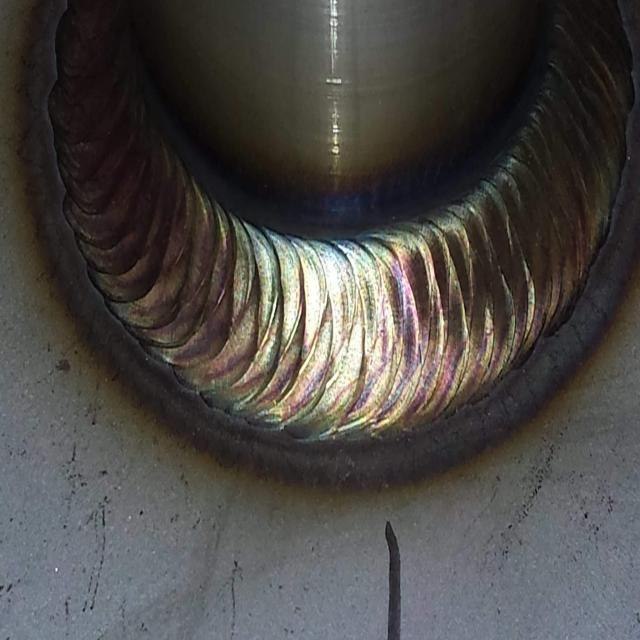Good Weld: (142, 206, 530, 432)
